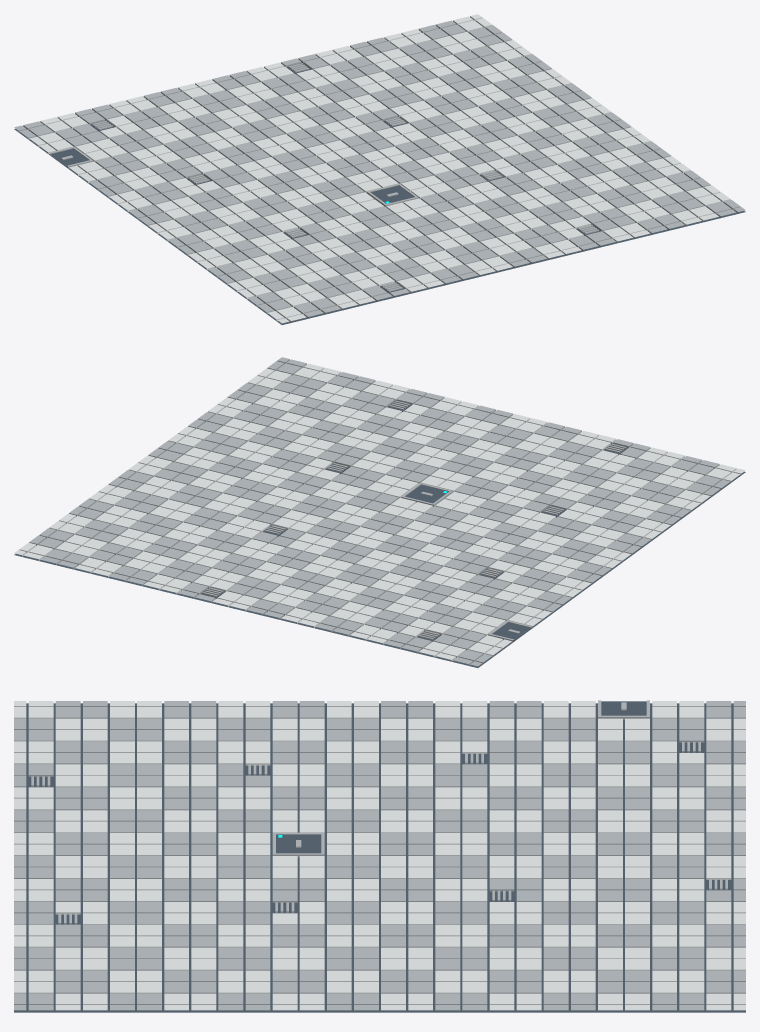
The model's file is Nave_piso_recuadro_central.glb.
3 renders of one model, top to bottom at view 1: azimuth 30°, elevation 25°; view 2: azimuth 150°, elevation 25°; view 3: azimuth 270°, elevation 25°, orthographic. The views are drawn at different scales.
Visible parts, largest first — view 1: Suelo_Paneles_Blanco, Suelo_Paneles_Aluminio, Suelo_Base_Titanio, Suelo_Rejillas_Puertos_Aluminio; view 2: Suelo_Paneles_Blanco, Suelo_Paneles_Aluminio, Suelo_Base_Titanio, Suelo_Rejillas_Puertos_Aluminio; view 3: Suelo_Paneles_Blanco, Suelo_Paneles_Aluminio, Suelo_Base_Titanio, Suelo_Rejillas_Puertos_Aluminio.
Boxes of the visible parts, left/top/right/bottom form: Suelo_Paneles_Blanco: left=29, top=14, right=730, bottom=323; Suelo_Paneles_Aluminio: left=14, top=20, right=745, bottom=318; Suelo_Base_Titanio: left=14, top=62, right=745, bottom=324; Suelo_Rejillas_Puertos_Aluminio: left=49, top=63, right=598, bottom=291; Suelo_Paneles_Blanco: left=14, top=363, right=745, bottom=661; Suelo_Paneles_Aluminio: left=29, top=357, right=730, bottom=666; Suelo_Base_Titanio: left=14, top=400, right=745, bottom=667; Suelo_Rejillas_Puertos_Aluminio: left=202, top=400, right=626, bottom=642; Suelo_Paneles_Blanco: left=14, top=701, right=745, bottom=1010; Suelo_Paneles_Aluminio: left=14, top=701, right=745, bottom=1010; Suelo_Base_Titanio: left=14, top=701, right=745, bottom=1012; Suelo_Rejillas_Puertos_Aluminio: left=31, top=700, right=727, bottom=924.
Bounding box in the file's own units: 27 × 0.33 × 27.
